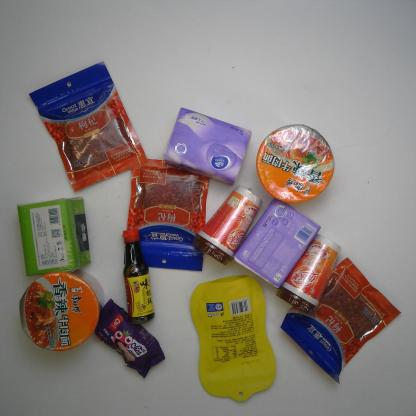Dessert: (95, 298, 165, 379)
Dried Fruit: (28, 60, 148, 192), (280, 258, 402, 385), (190, 275, 276, 403), (123, 158, 210, 272)
Instant Drink: (192, 184, 262, 266), (274, 233, 342, 315)
Instant Noodles: (18, 272, 100, 352), (255, 124, 335, 205)
Seasoner: (121, 228, 156, 324)
Tissue: (233, 197, 322, 289), (164, 106, 252, 187), (15, 196, 92, 277)
